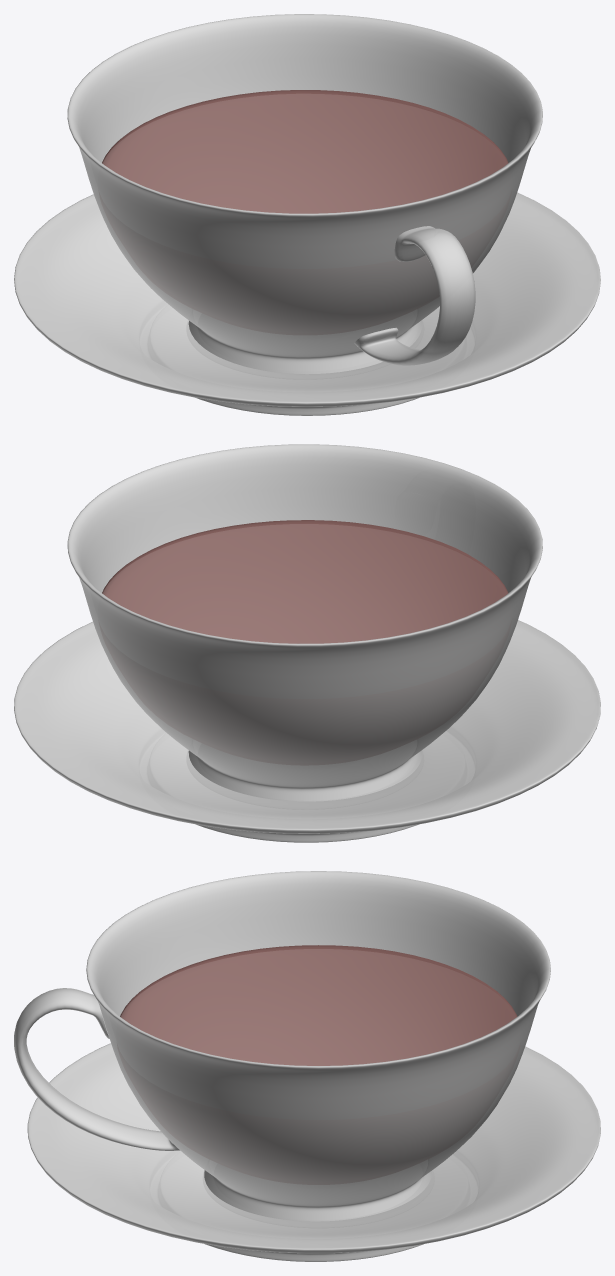
The model's file is coffee.fbx.
The picture shows the model from 3 angles, top to bottom: view 1: azimuth 30°, elevation 25°; view 2: azimuth 150°, elevation 25°; view 3: azimuth 270°, elevation 25°; orthographic projection. The views are drawn at different scales.
Parts seen in each view (by area): view 1: Coffee; view 2: Coffee; view 3: Coffee.
Part boxes in pixels (x1,y1,x2,y2): Coffee: [14, 14, 600, 415]; Coffee: [14, 444, 600, 842]; Coffee: [14, 871, 600, 1261].
Size of the model in its own units: 61.92 by 26.71 by 63.37.
